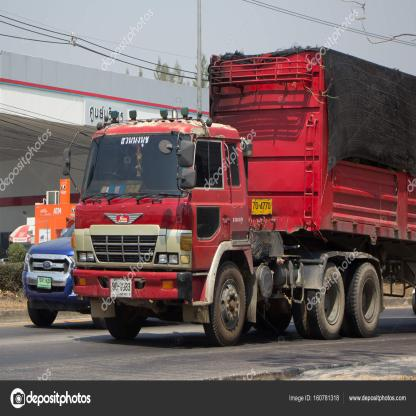dump_truck: (69, 25, 416, 355)
